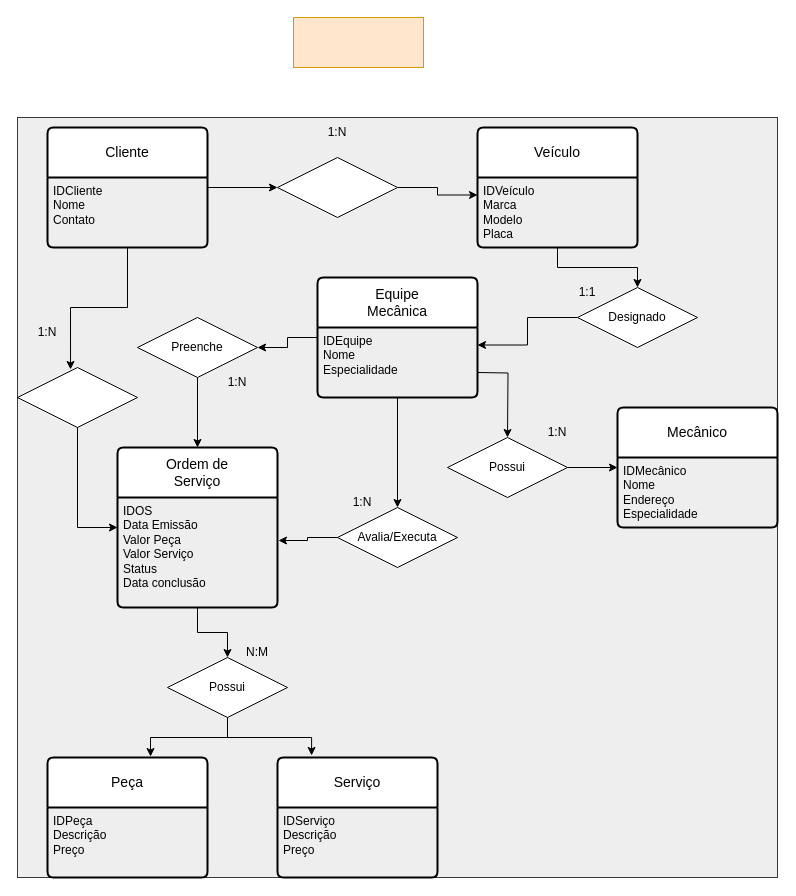
Image size: 796x896. Some labels were removed from this diagram. The centre of each missing label's shape, as x and y in pixels:
"Autoriza" goes at (77,397).
"Leva" goes at (337,187).
"Oficina" goes at (358,42).
